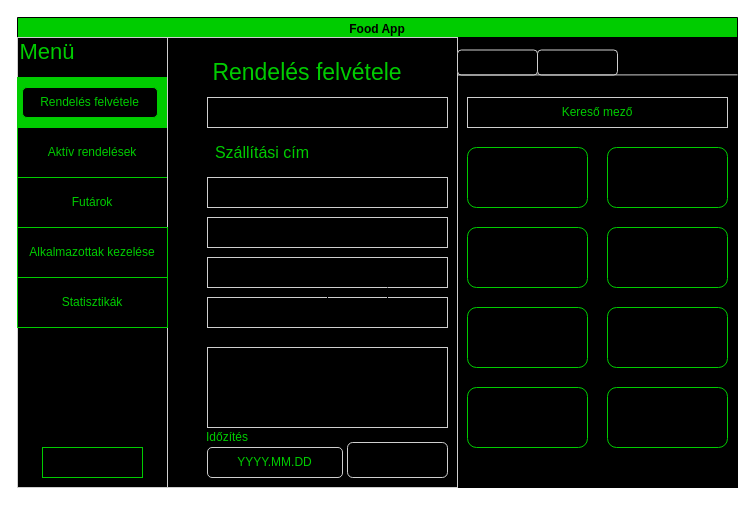
This 756x505 diagram has some shape labels left out. The shapes that lost their labels are listed below. From the top down, each one's box as (x1, y1, x2, y2) in pixels, then its label:
(456, 49, 538, 75): Ételek
(536, 49, 618, 75): Italok
(42, 446, 142, 478): Kijelentkezés
(346, 442, 448, 478): Mentés
